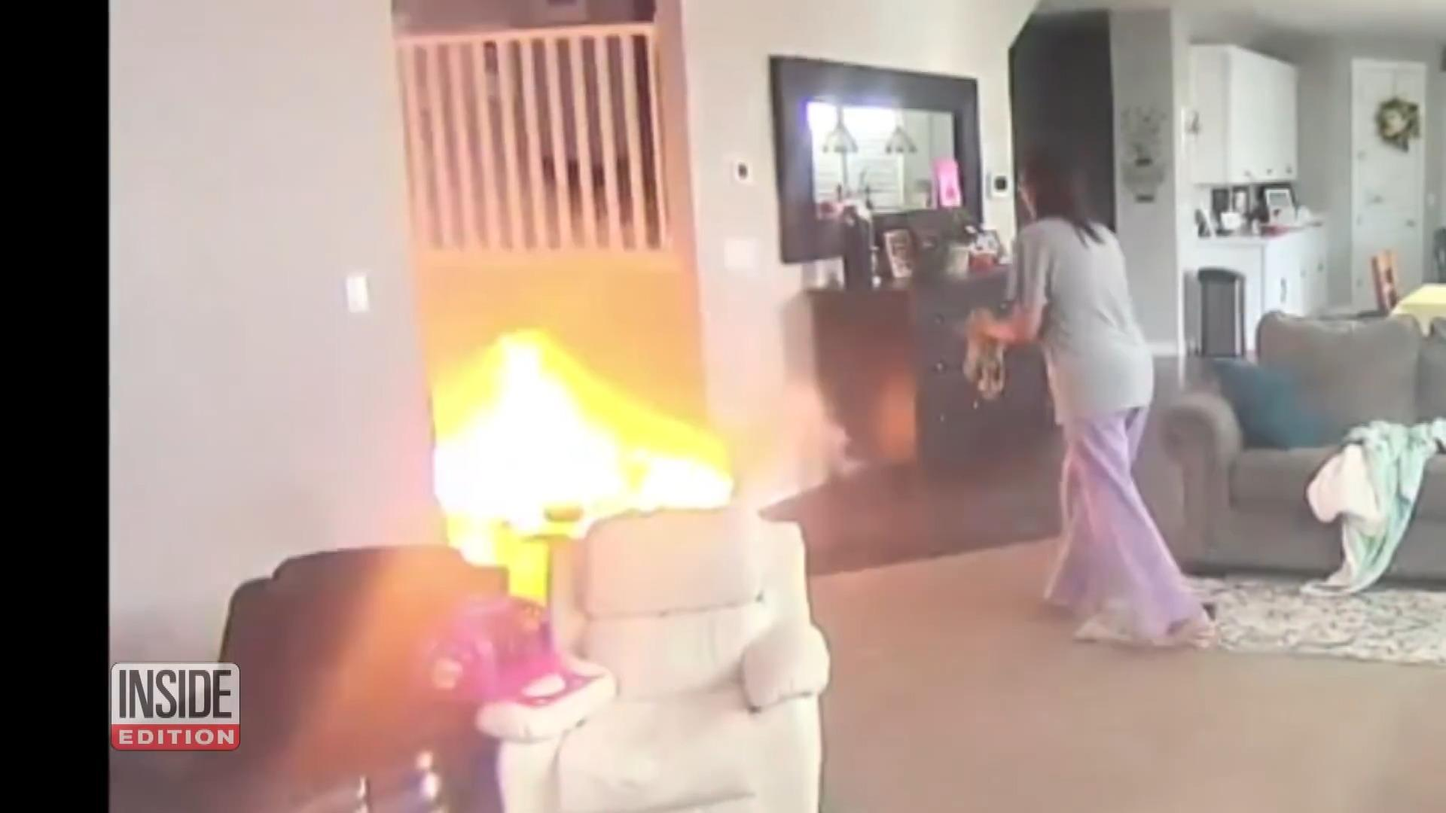fire: (435, 331, 735, 563)
